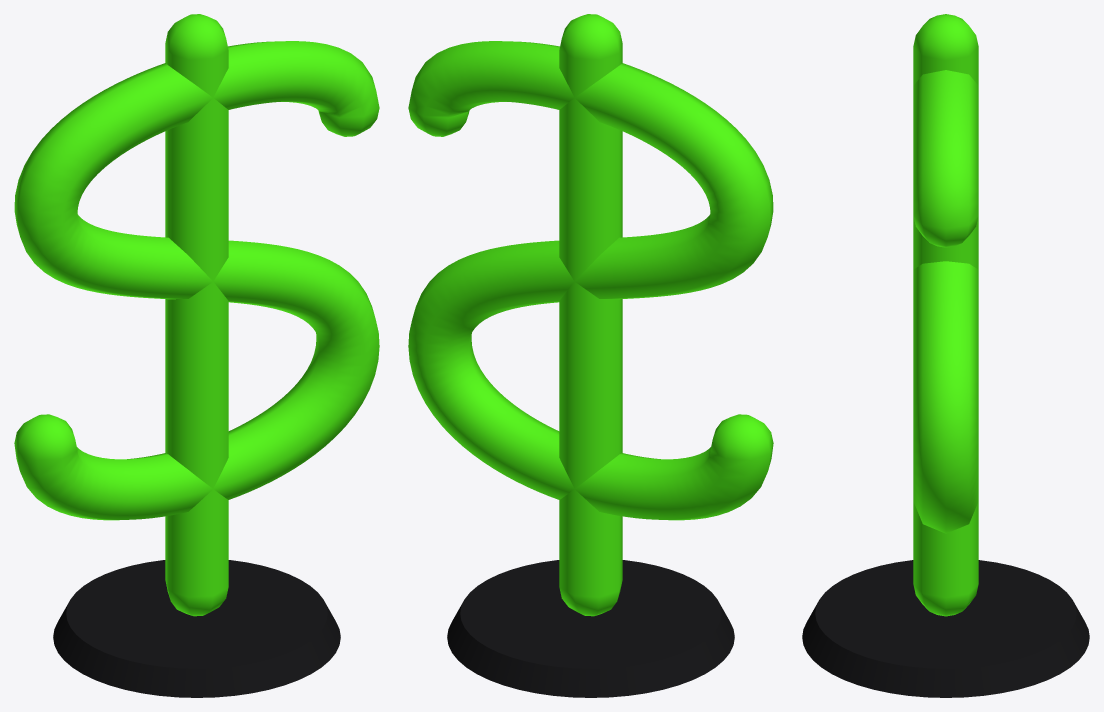
Rendered from sb-emblem-slime.glb.
3 renders of one model, left to right at view 1: azimuth 30°, elevation 25°; view 2: azimuth 150°, elevation 25°; view 3: azimuth 270°, elevation 25°, orthographic.
Parts seen in each view (by area): view 1: mark, plinth; view 2: mark, plinth; view 3: mark, plinth.
Boxes of the visible parts, box(x1,y1,x2,y2) form: mark: box(14, 14, 379, 616); plinth: box(53, 560, 340, 697); mark: box(408, 14, 773, 616); plinth: box(447, 560, 734, 697); mark: box(913, 14, 978, 616); plinth: box(802, 560, 1089, 697).
Bounding box in the file's own units: 0.19 × 0.314 × 0.132.
